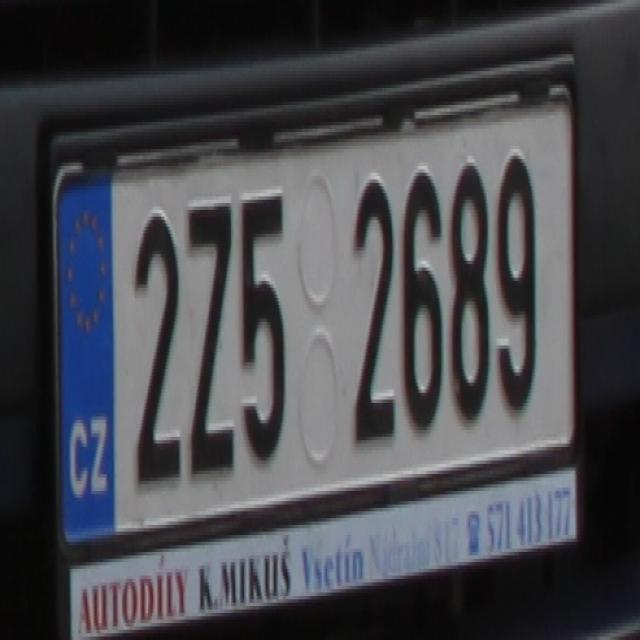2: (135, 207, 184, 491), (352, 173, 397, 430)
5: (241, 186, 287, 464)
6: (403, 159, 442, 423)
8: (450, 159, 490, 423)
9: (496, 146, 535, 410)
Z: (184, 196, 234, 474)
